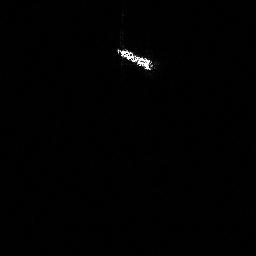ship: (113, 44, 159, 74)
